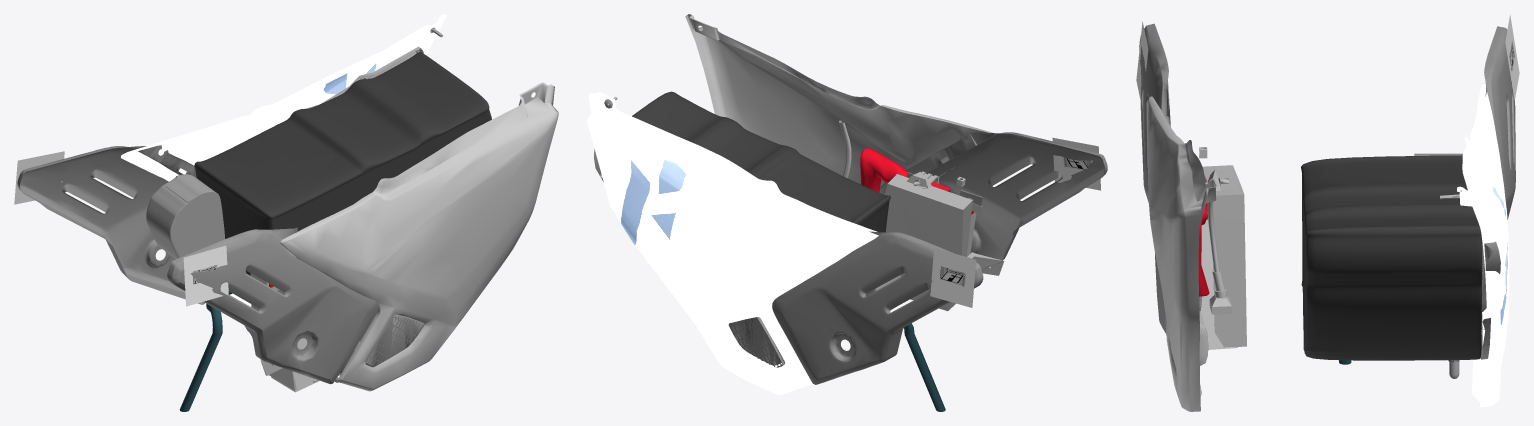
Rendered from side_panel.fbx.
3 views of the same model, side by side, from view 1: azimuth 30°, elevation 25°; view 2: azimuth 150°, elevation 25°; view 3: azimuth 270°, elevation 25° (orthographic). The views are drawn at different scales.
Parts seen in each view (by area): view 1: polySurface10812, polySurface12401, polySurface12398, polySurface6344_001, SIDEPANEL1_001, pCube1, Plane, polySurface6344_008, polySurface12234, Plane__1_, polySurface12400; view 2: SIDEPANEL1_001, polySurface10812, polySurface6344_001, polySurface12398, polySurface12401, Plane__1_, polySurface12399, Plane, polySurface12234; view 3: polySurface12401, polySurface10812, SIDEPANEL1_001, polySurface6344_001, polySurface12398, polySurface12400, Plane__1_, Plane.
Boxes of the visible parts, left/top/right/bottom form: polySurface10812: left=250, top=82, right=558, bottom=392; polySurface12401: left=194, top=52, right=491, bottom=275; polySurface12398: left=167, top=227, right=379, bottom=384; polySurface6344_001: left=17, top=145, right=204, bottom=304; SIDEPANEL1_001: left=121, top=14, right=446, bottom=306; pCube1: left=146, top=174, right=225, bottom=258; Plane: left=183, top=245, right=228, bottom=306; polySurface6344_008: left=365, top=314, right=424, bottom=367; polySurface12234: left=179, top=291, right=232, bottom=411; Plane__1_: left=14, top=151, right=64, bottom=204; polySurface12400: left=194, top=46, right=423, bottom=177; SIDEPANEL1_001: left=587, top=92, right=878, bottom=395; polySurface10812: left=685, top=14, right=1004, bottom=311; polySurface6344_001: left=729, top=231, right=983, bottom=384; polySurface12398: left=879, top=132, right=1107, bottom=270; polySurface12401: left=632, top=91, right=890, bottom=232; Plane__1_: left=930, top=248, right=976, bottom=307; polySurface12399: left=728, top=317, right=782, bottom=365; Plane: left=1052, top=137, right=1100, bottom=190; polySurface12234: left=903, top=323, right=945, bottom=411; polySurface12401: left=1301, top=155, right=1482, bottom=360; polySurface10812: left=1147, top=96, right=1246, bottom=411; SIDEPANEL1_001: left=1457, top=84, right=1509, bottom=407; polySurface6344_001: left=1484, top=26, right=1515, bottom=219; polySurface12398: left=1139, top=23, right=1170, bottom=333; polySurface12400: left=1480, top=241, right=1500, bottom=359; Plane__1_: left=1505, top=14, right=1519, bottom=100; Plane: left=1136, top=22, right=1148, bottom=107.
Bounding box in the file's own units: 158 × 104 × 98.74.
